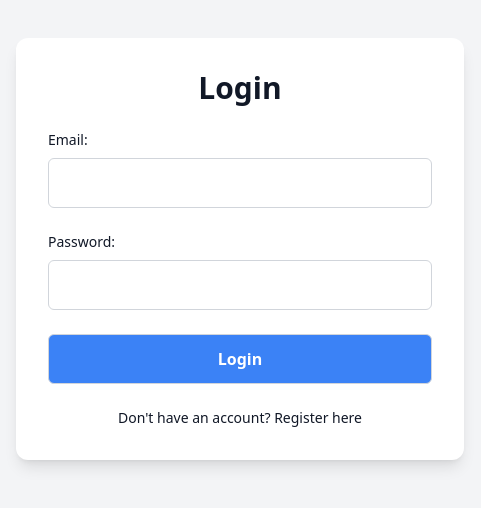
Scenario: LoginPage › should display fallback error message when API returns empty message
Type "user@no-msg.com" into the field labelled "Email:" at (240, 183), box [48,158,432,208]
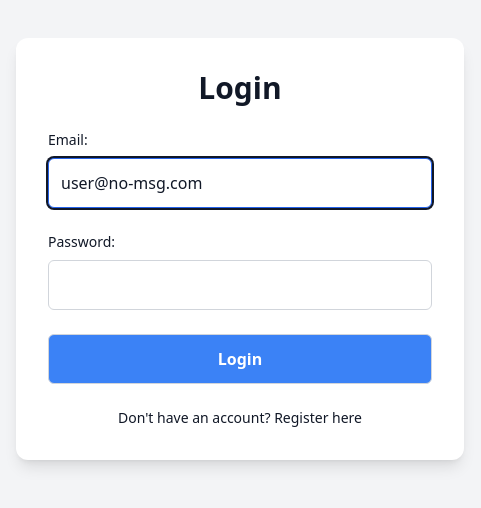
Type "password123" into the password field labelled "Password:" at (240, 285), box [48,260,432,310]
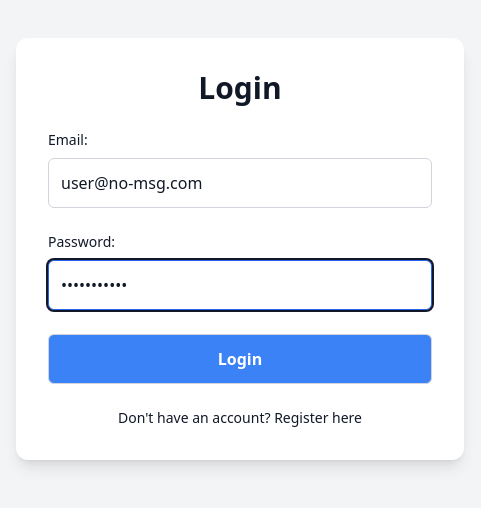
Click the button "Login" at (240, 359), box [48,334,432,384]
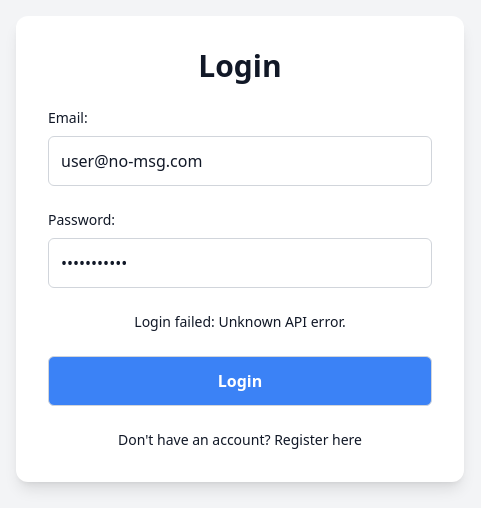
Now the text "Login failed: Unknown API error." is shown, box [134,312,346,331]
